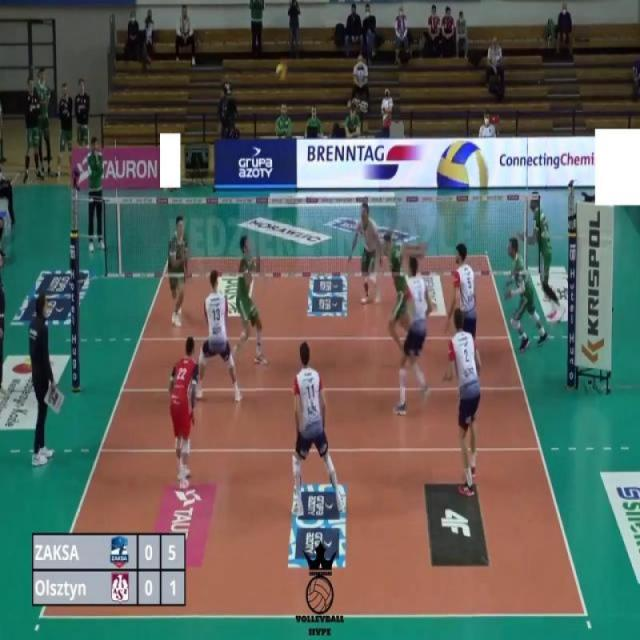volleyball: (435, 138, 490, 189), (275, 60, 287, 84)
